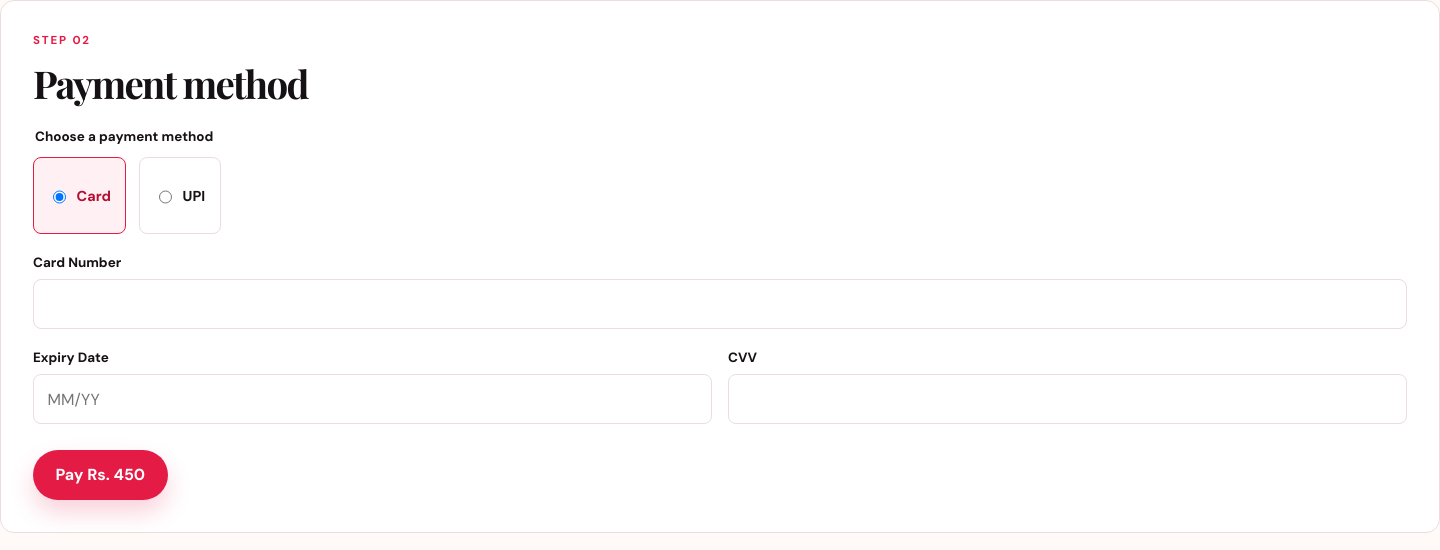
Scenario: PaymentForm booking flow › shows only card fields or the UPI ID field for the chosen method
Expected: the field labelled "Card Number" is shown, [33, 279, 1407, 329]
Expected: the field labelled "Expiry Date" is shown, [33, 374, 712, 424]
Step 1. Click the radio button labelled "UPI" → coordinates (166, 197), box [159, 172, 172, 222]
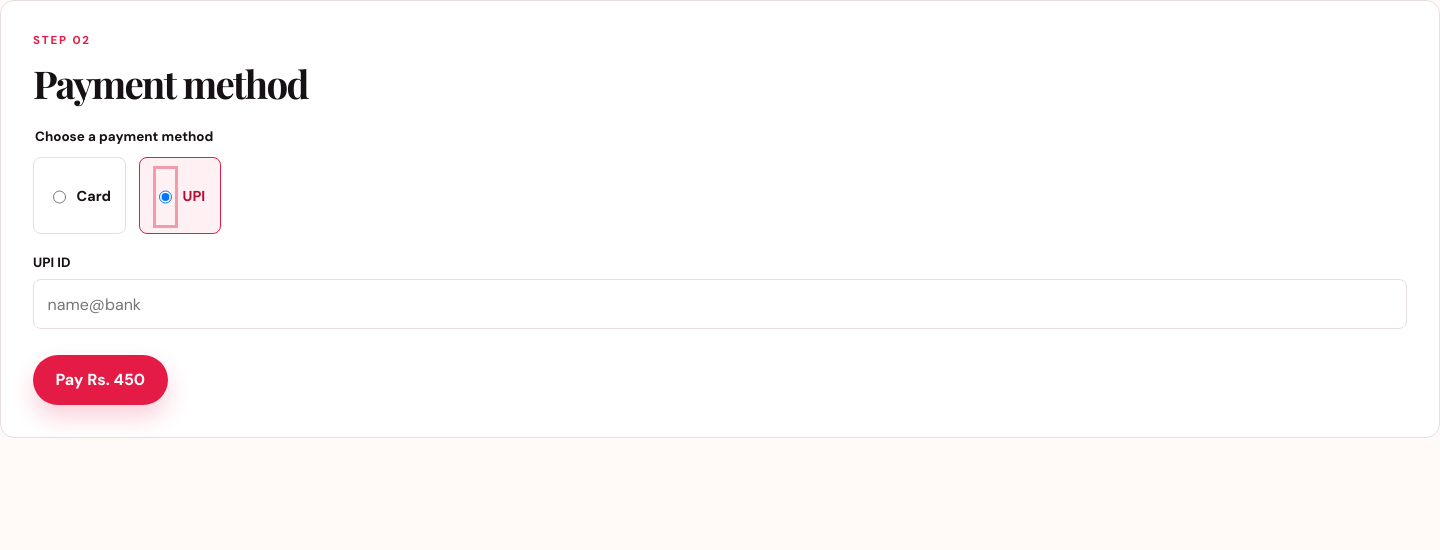
Expected: the field labelled "UPI ID" is shown, [33, 279, 1407, 329]
Expected: the radio button labelled "UPI" is checked, [159, 172, 172, 222]
Expected: the label labelled "Card Number" is gone
